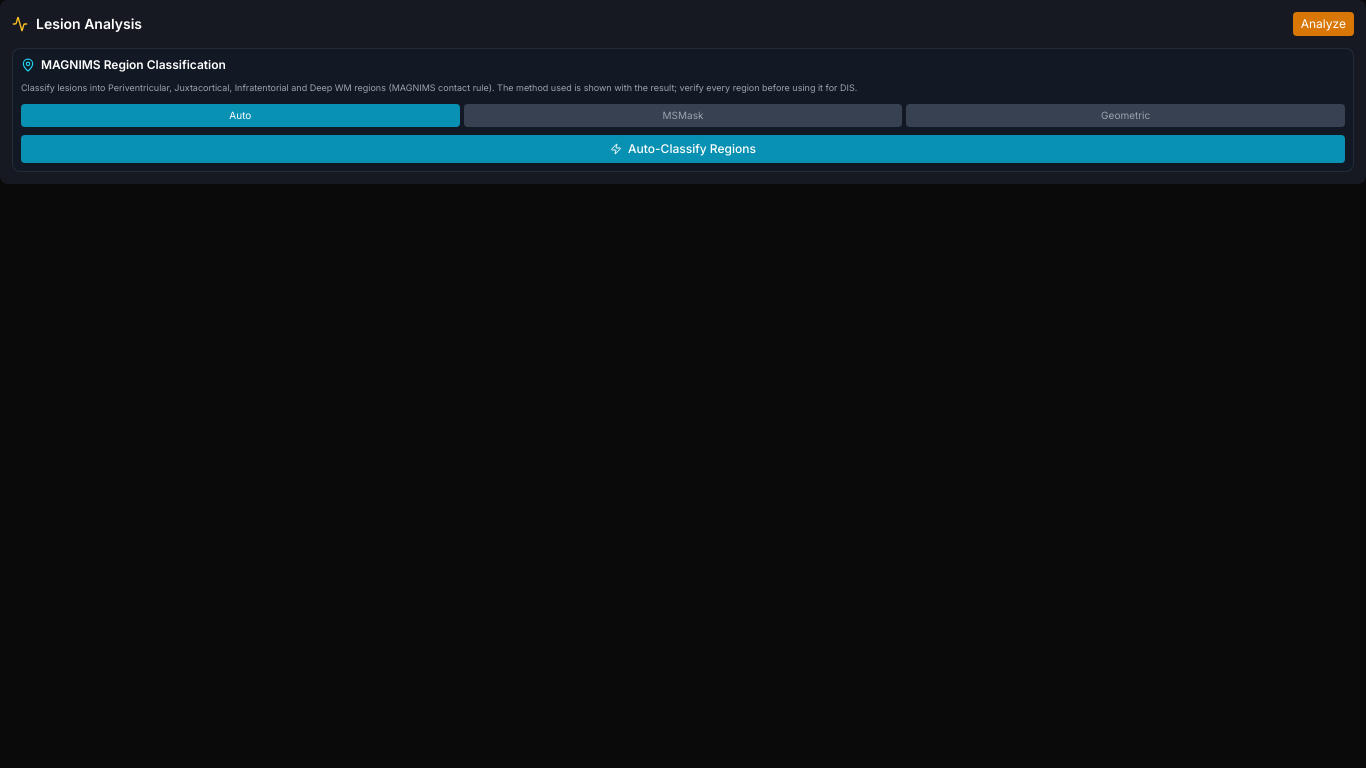
Test: m-1: the DIS card names lesions as the lesion table does › rc070 review3 a lesion with two labels is listed part by part, with the table number and small components
Click the button "Analyze".
click(1323, 24)  # box [1293, 12, 1354, 36]
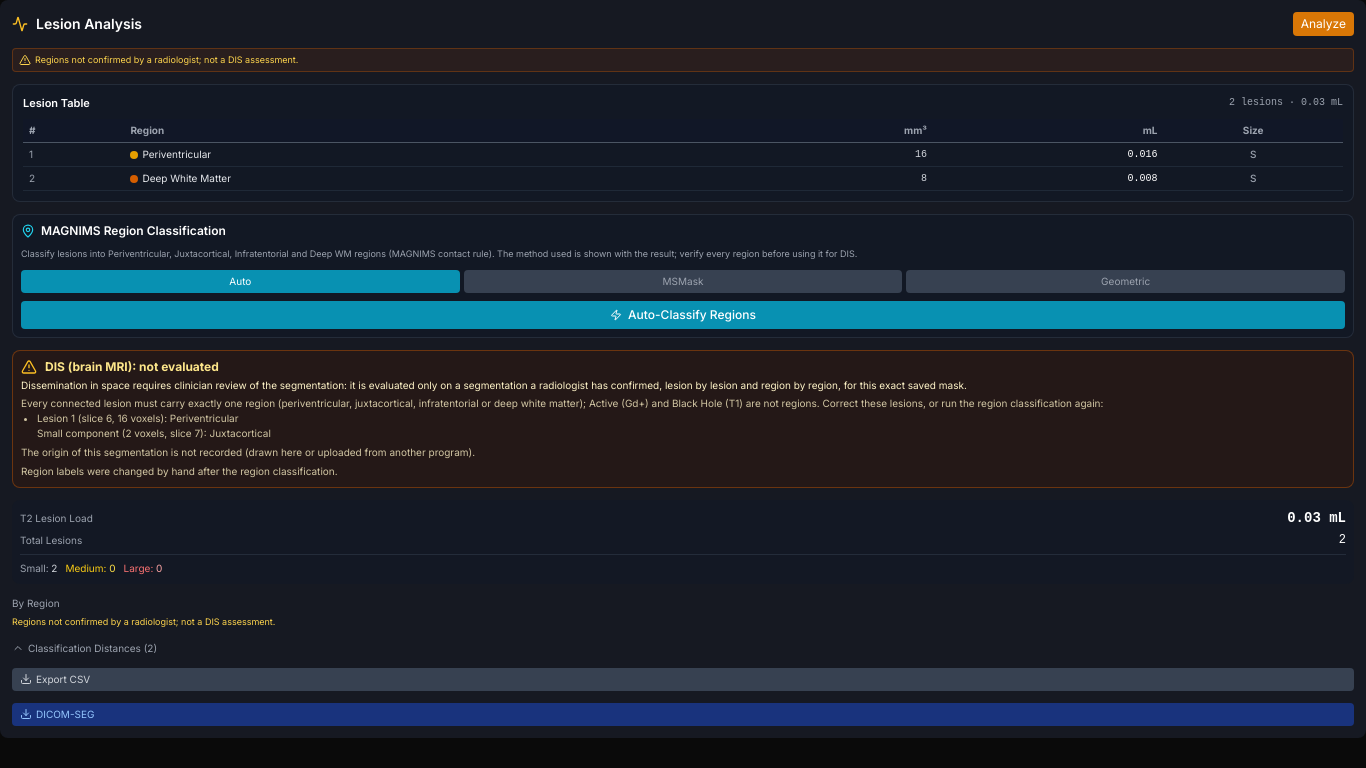
expect the elements with test id "dis-invalid-lesion-part" read "Lesion 1 (slice 6, 16 voxels): Periventricular", "Small component (2 voxels, slice 7): Juxtacortical", in this order: met, box [37, 412, 238, 424]; [37, 427, 271, 439]
